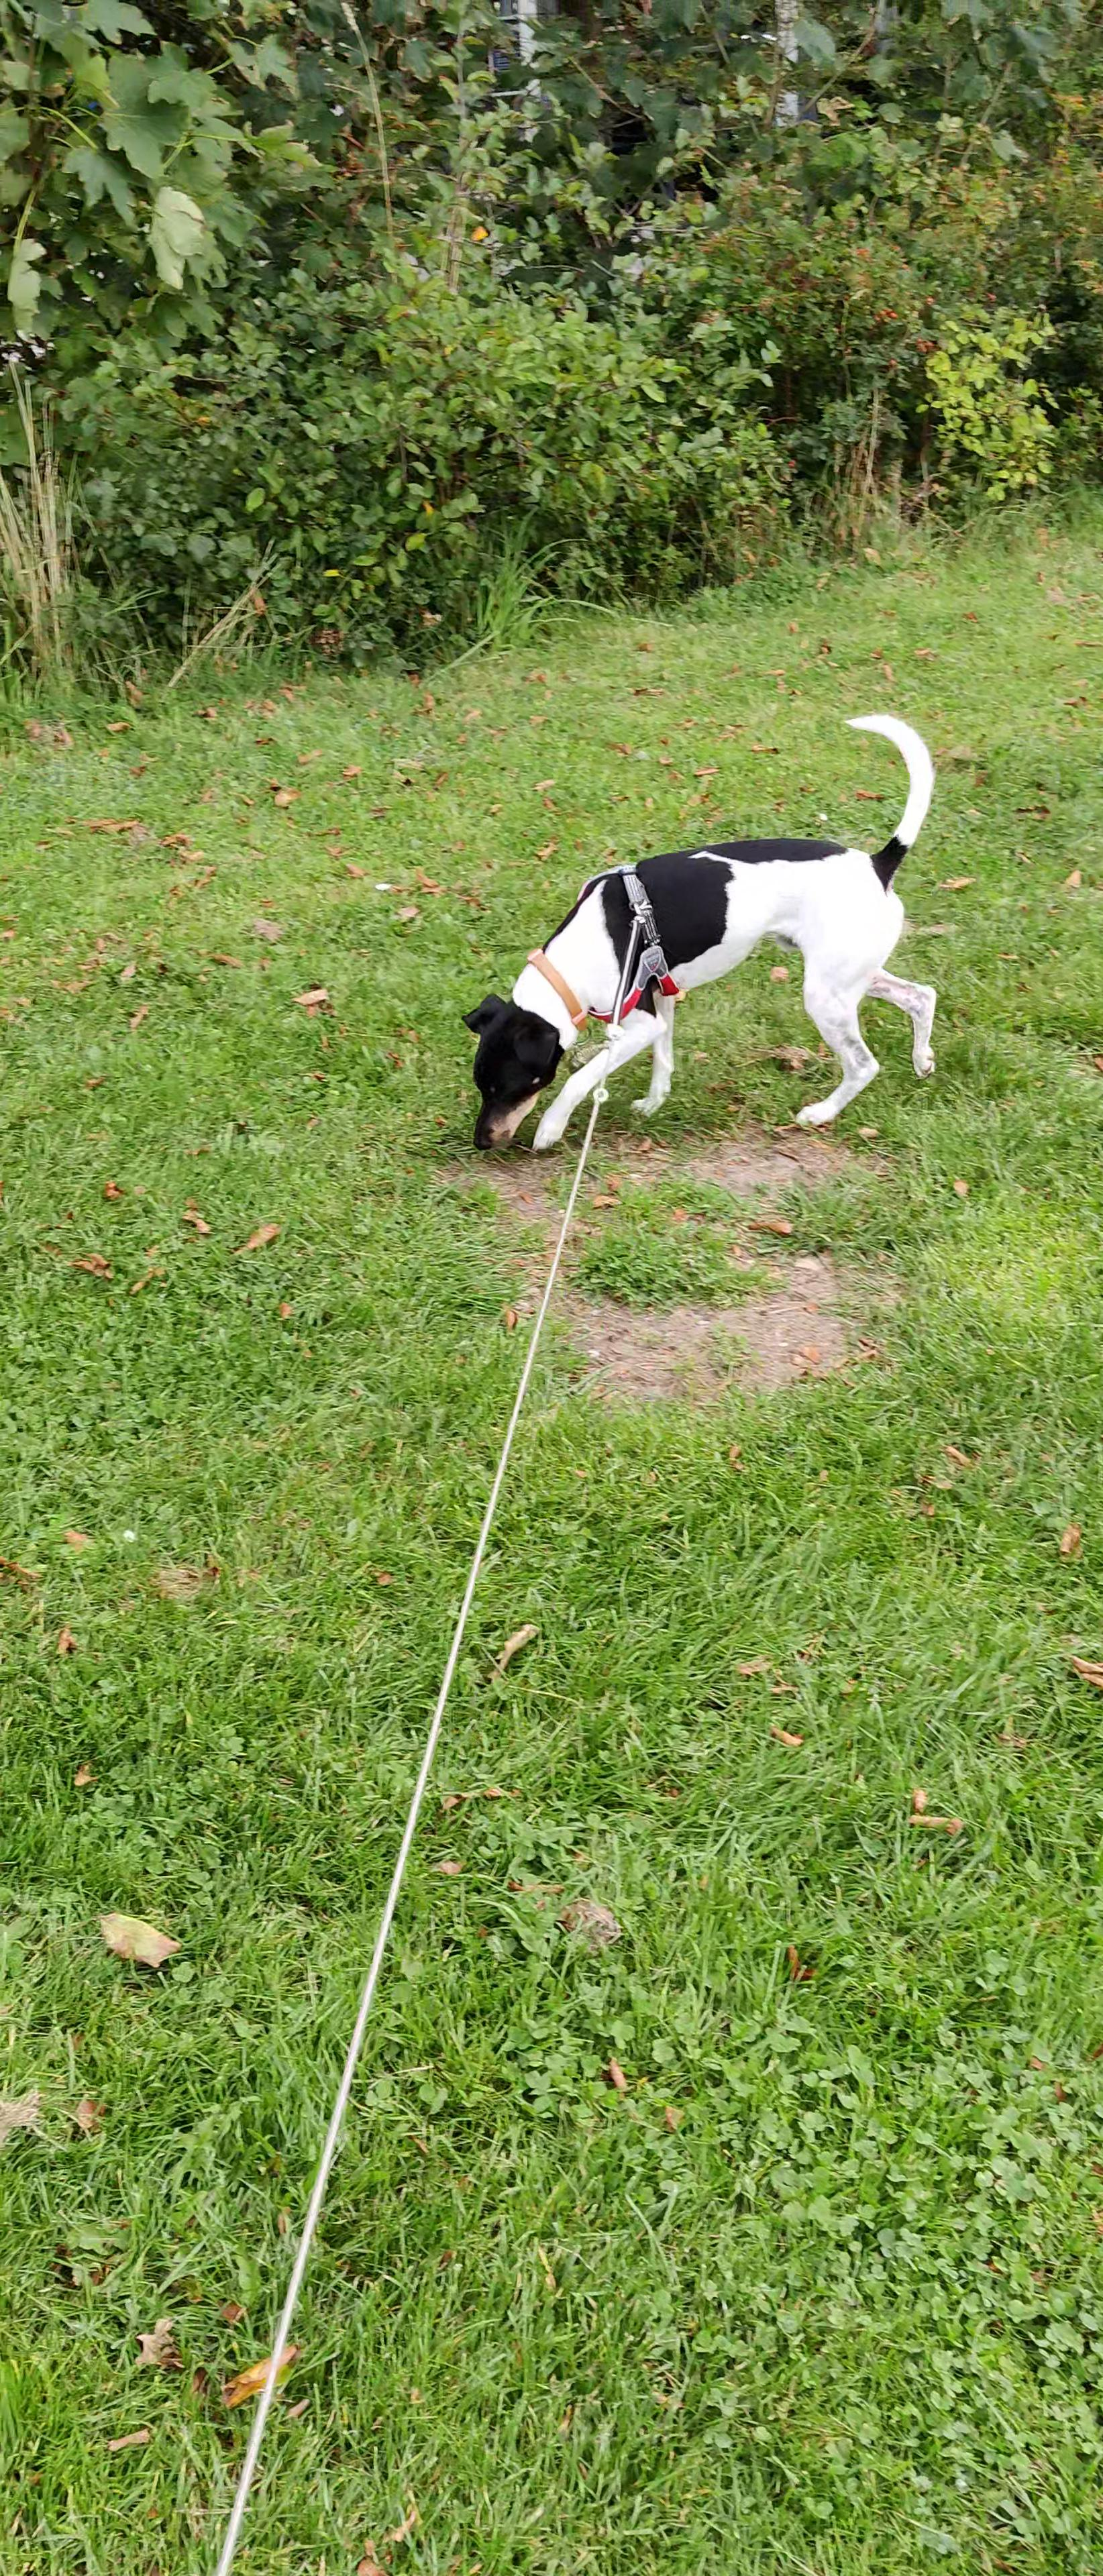Dog: (444, 706, 950, 1165)
